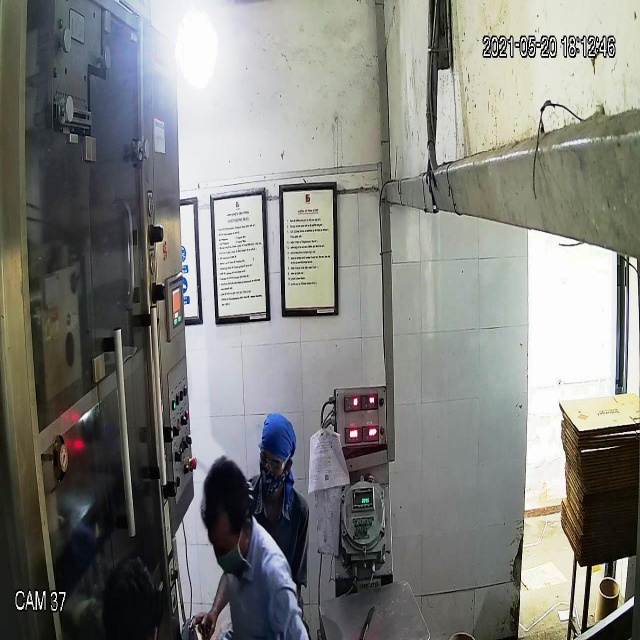Gafas: (255, 447, 290, 477)
